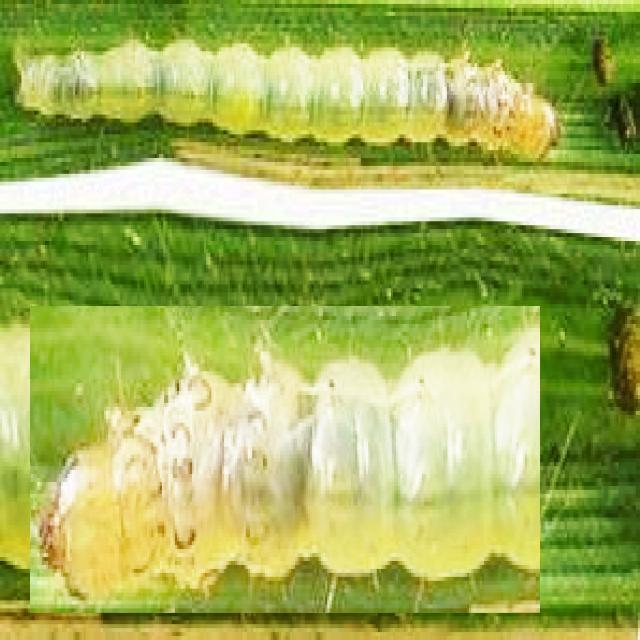leaf-folder: (30, 306, 540, 613), (17, 24, 570, 184)
